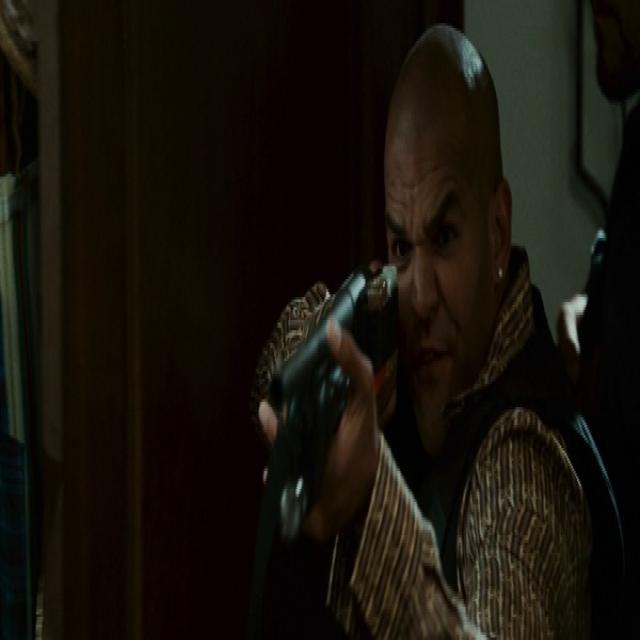rifle: (257, 265, 401, 562)
